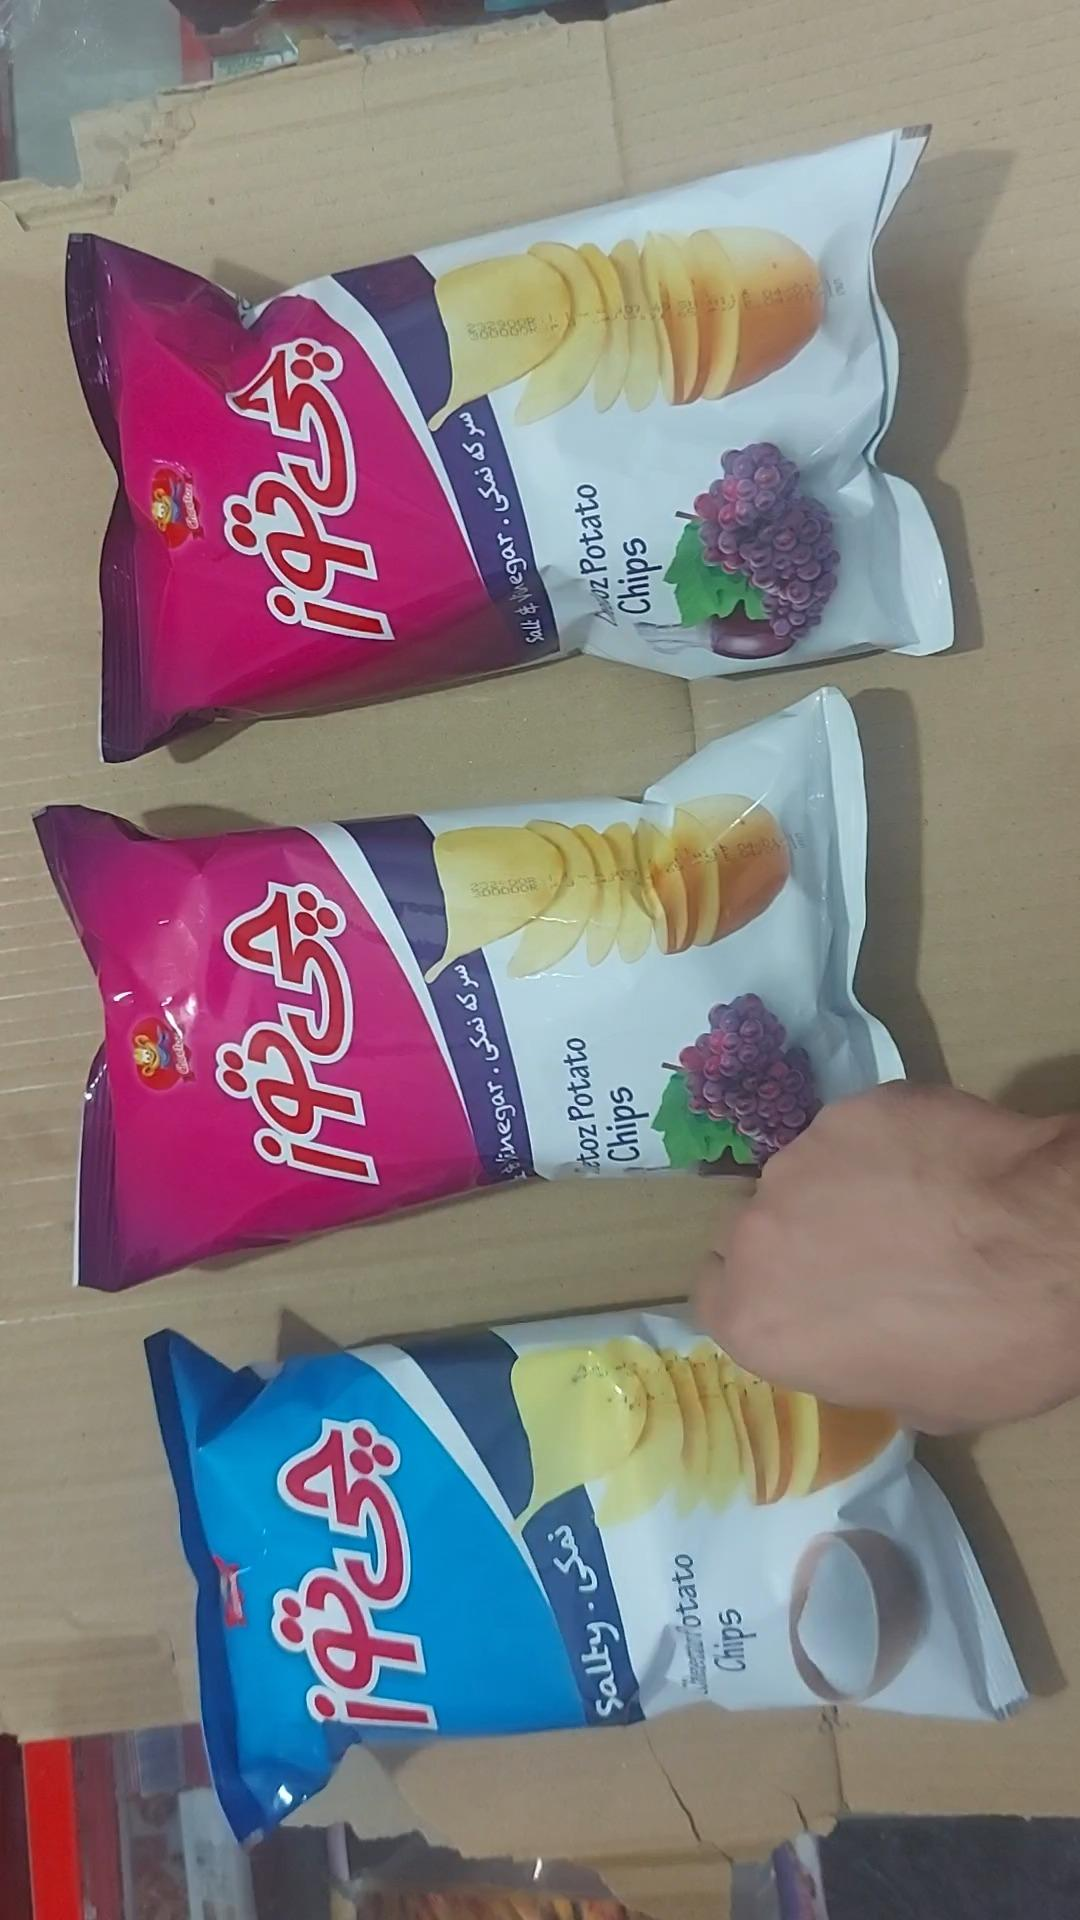Cheetoz salty chips: (146, 1307, 1027, 1838)
Cheetoz vinegar chips: (65, 131, 953, 762), (36, 691, 902, 1290)
